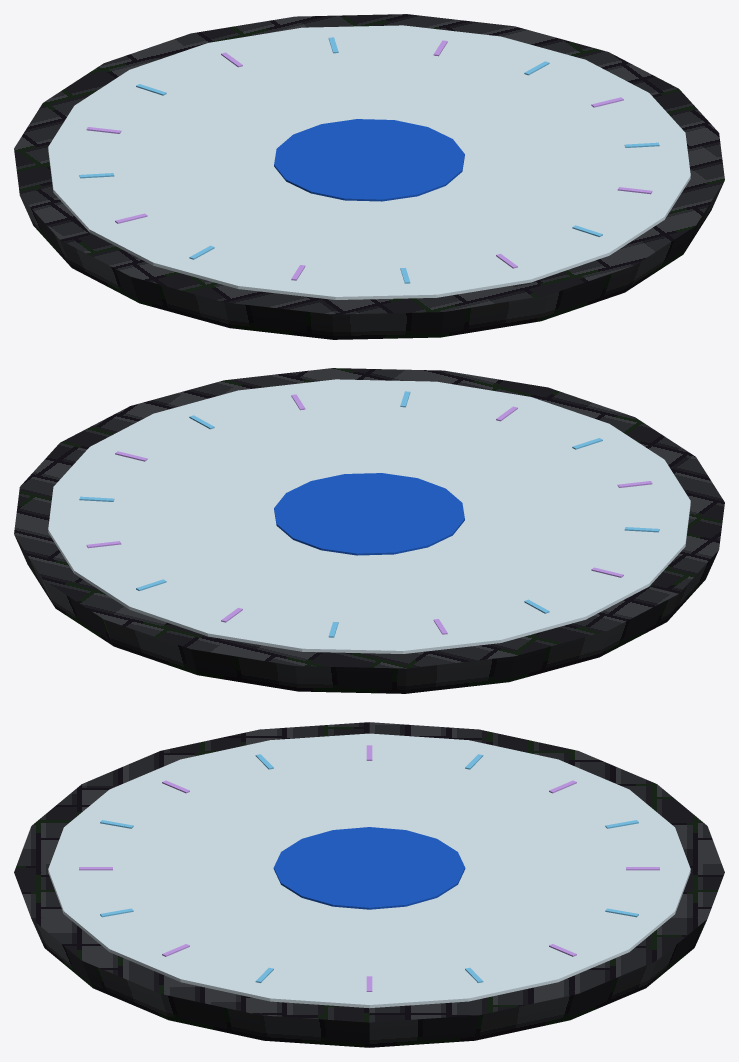
File: crown_platform.glb
The picture shows the model from 3 angles, top to bottom: view 1: azimuth 30°, elevation 25°; view 2: azimuth 150°, elevation 25°; view 3: azimuth 270°, elevation 25°; orthographic projection.
Parts seen in each view (by area): view 1: crown_platform; view 2: crown_platform; view 3: crown_platform.
Boxes of the visible parts, x1,y1,x2,y2 form: crown_platform: (14, 14, 724, 339); crown_platform: (14, 368, 724, 693); crown_platform: (14, 722, 724, 1047).
Bounding box in the file's own units: 10.4 × 0.58 × 10.4.
3 materials, 1 textured.
